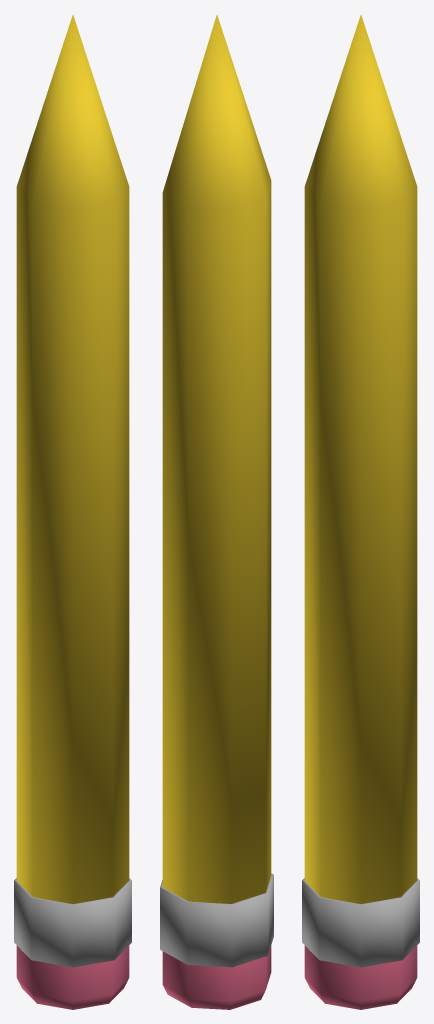
Rendered from pencilsmoothfbx.fbx.
The picture shows the model from 3 angles, left to right: view 1: azimuth 90°, elevation 25°; view 2: azimuth 150°, elevation 25°; view 3: azimuth 270°, elevation 25°; orthographic projection.
Visible parts, largest first — view 1: eraser; view 2: eraser; view 3: eraser.
Boxes of the visible parts, x1,y1,x2,y2 form: eraser: (14, 15, 131, 1009); eraser: (160, 15, 273, 1009); eraser: (302, 15, 419, 1009).
Size of the model in its own units: 60.03 by 551 by 60.03.
